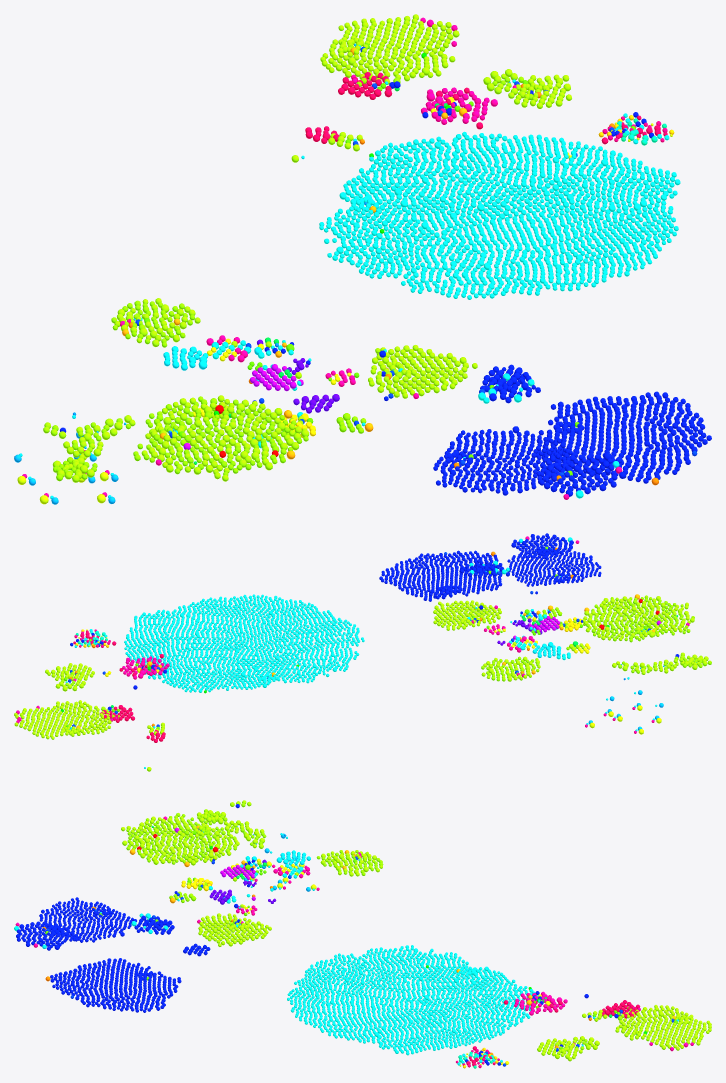
Rendered from task-813bb264d-layout.gltf.
3 views of the same model, one above another, from view 1: azimuth 30°, elevation 25°; view 2: azimuth 150°, elevation 25°; view 3: azimuth 270°, elevation 25° (orthographic). The views are drawn at different scales.
Visible parts, largest first — view 1: normal_no_ext_files, normal_c_files, normal_md_files, normal_h_files, normal_pl_files, normal_py_files, normal_cmake_files, normal_m4_files; view 2: normal_no_ext_files, normal_c_files, normal_md_files, normal_h_files, normal_pl_files, normal_py_files; view 3: normal_no_ext_files, normal_c_files, normal_md_files, normal_h_files, normal_pl_files, normal_py_files.
Boxes of the visible parts, left/top/right/bottom form: normal_no_ext_files: left=211, top=113, right=680, bottom=498; normal_c_files: left=52, top=14, right=571, bottom=482; normal_md_files: left=60, top=81, right=711, bottom=496; normal_h_files: left=52, top=44, right=533, bottom=481; normal_pl_files: left=120, top=17, right=622, bottom=499; normal_py_files: left=305, top=72, right=482, bottom=143; normal_cmake_files: left=183, top=364, right=303, bottom=449; normal_m4_files: left=163, top=346, right=619, bottom=467; normal_no_ext_files: left=74, top=537, right=572, bottom=692; normal_c_files: left=14, top=596, right=708, bottom=771; normal_md_files: left=75, top=533, right=679, bottom=710; normal_h_files: left=47, top=595, right=711, bottom=729; normal_pl_files: left=16, top=536, right=689, bottom=723; normal_py_files: left=100, top=654, right=165, bottom=742; normal_no_ext_files: left=14, top=856, right=538, bottom=1063; normal_c_files: left=121, top=810, right=711, bottom=1061; normal_md_files: left=16, top=804, right=618, bottom=1046; normal_h_files: left=126, top=803, right=680, bottom=1050; normal_pl_files: left=15, top=816, right=693, bottom=1051; normal_py_files: left=503, top=1000, right=640, bottom=1018.
Bounding box in the file's own units: 351 × 47.38 × 402.
